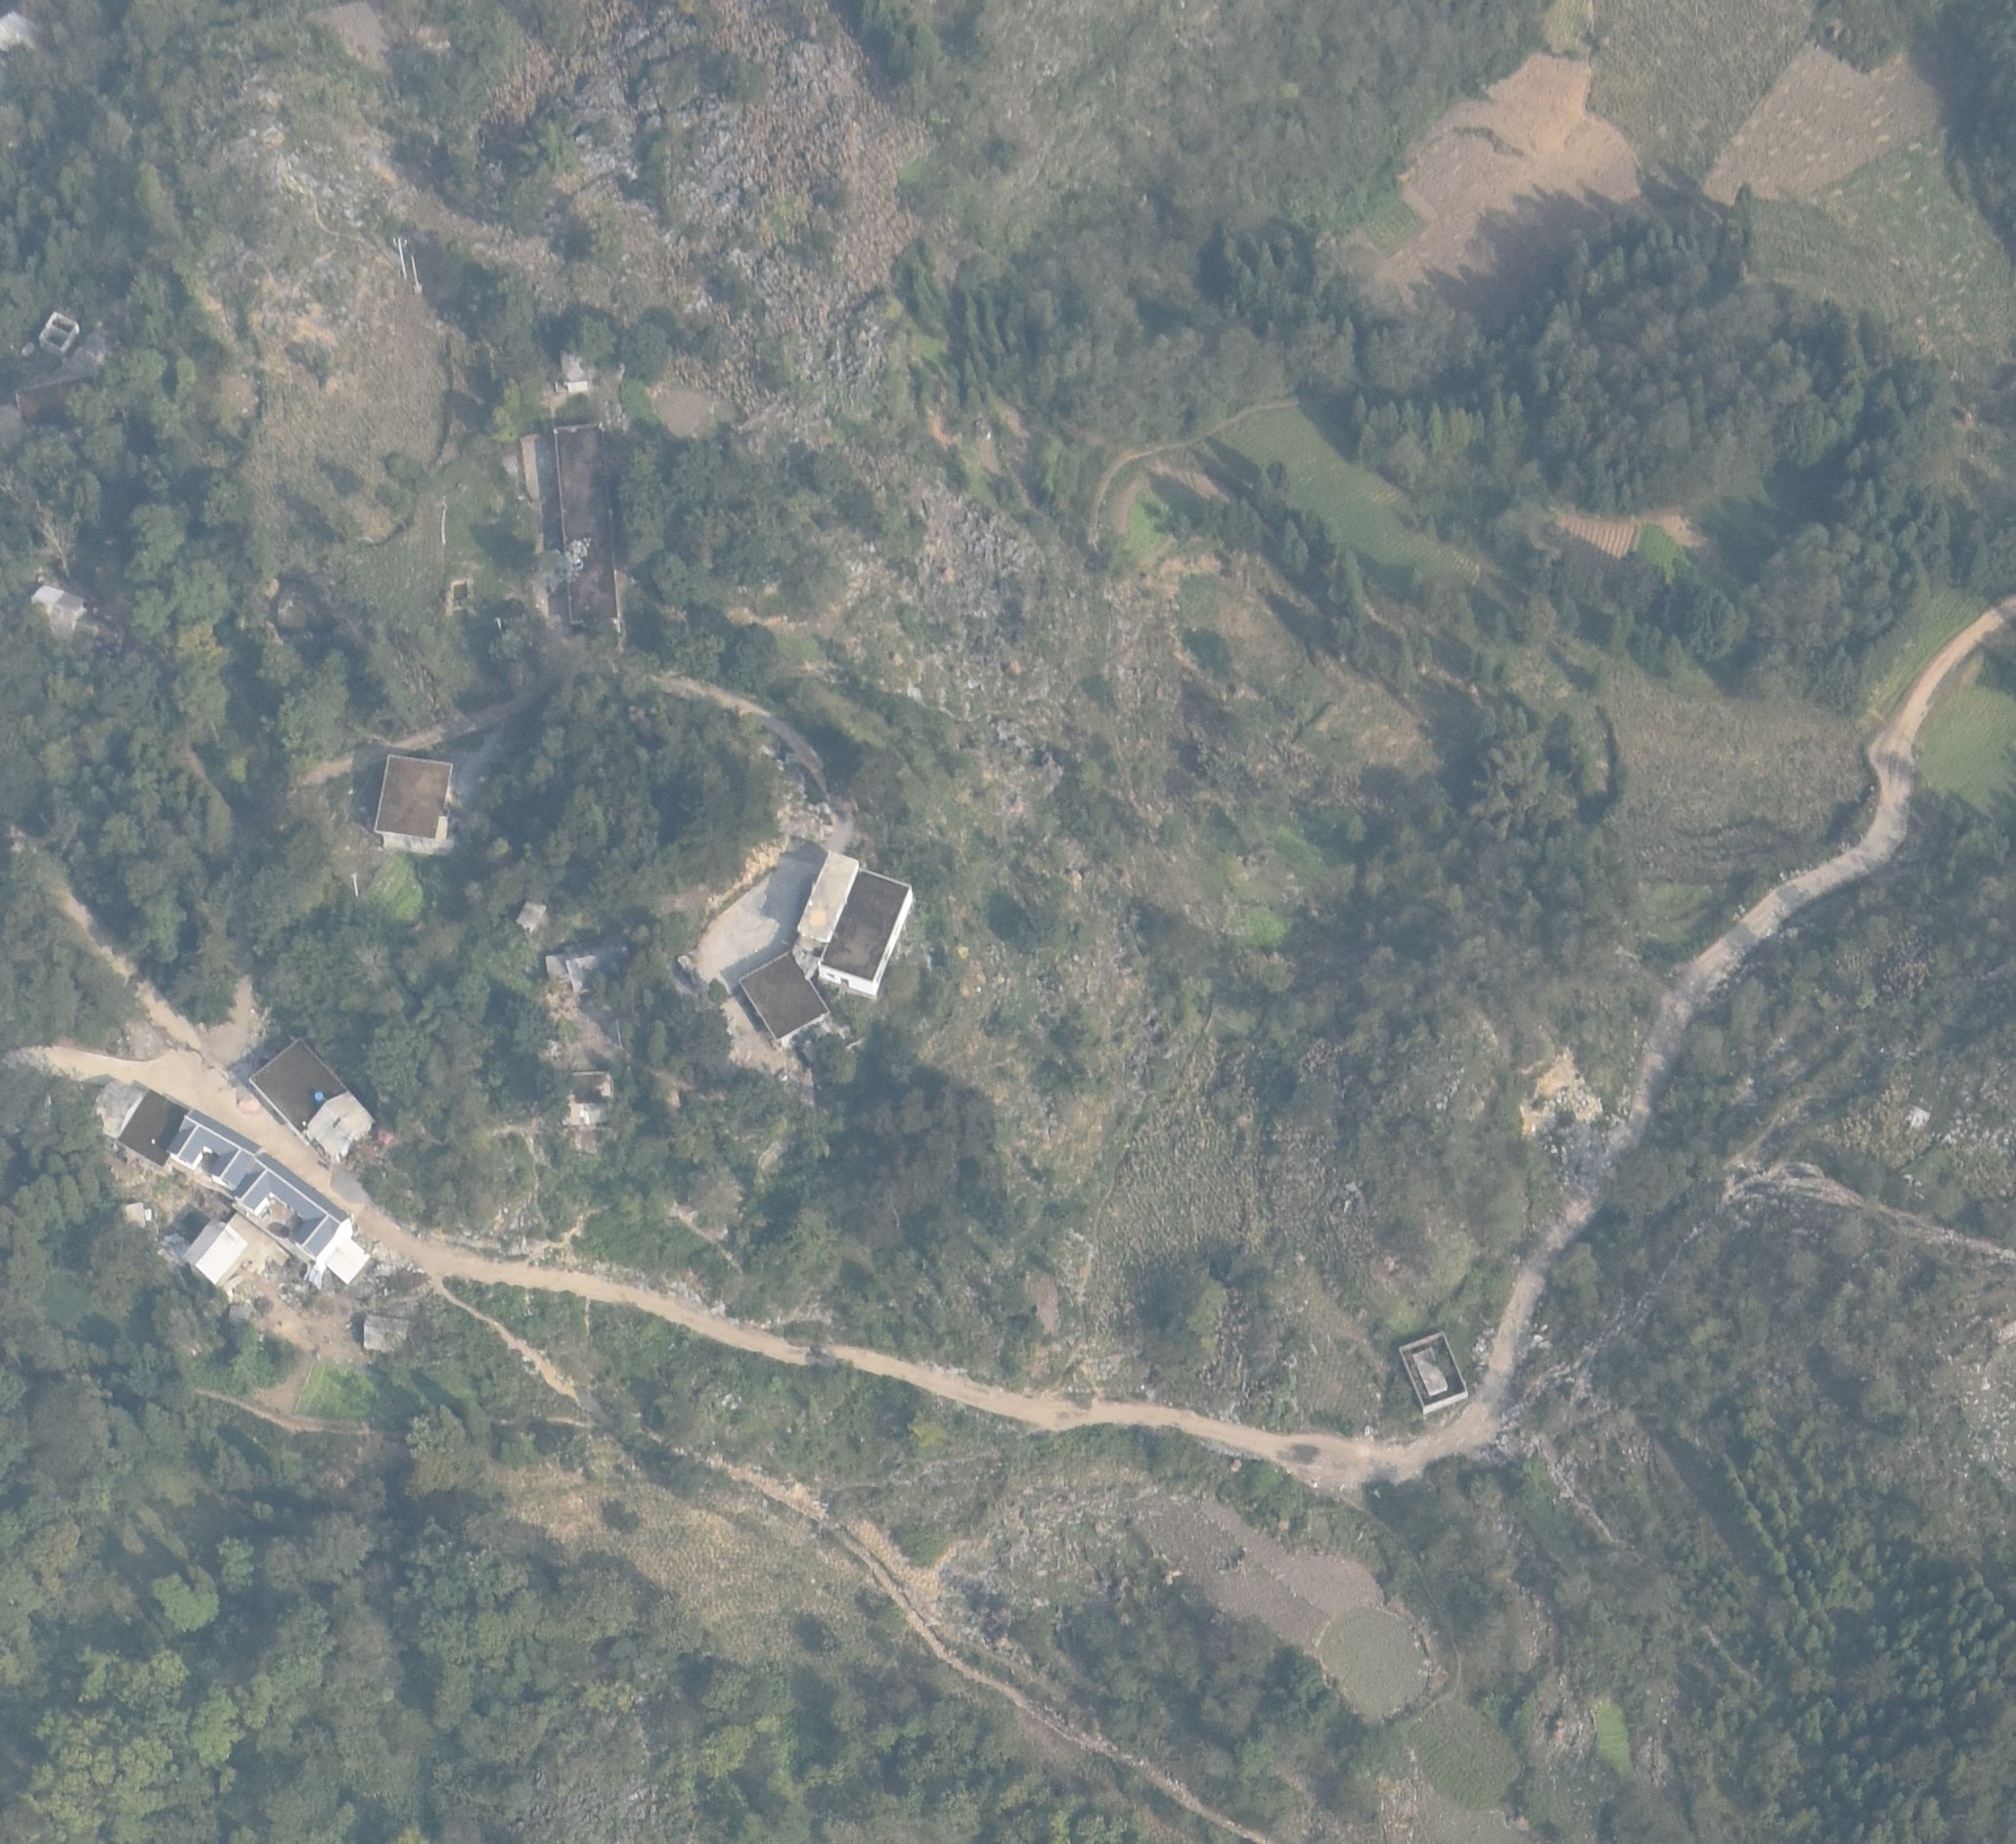building: (246, 1035, 377, 1166), (226, 1156, 352, 1267), (554, 423, 619, 622), (823, 865, 911, 991), (738, 950, 831, 1046), (168, 1106, 261, 1194), (373, 754, 450, 857), (802, 841, 863, 948), (1398, 1328, 1469, 1415), (114, 1085, 188, 1168), (546, 945, 630, 992), (30, 584, 83, 648), (565, 1068, 613, 1125), (71, 611, 118, 653), (39, 310, 78, 357), (362, 1316, 411, 1351), (559, 345, 588, 391), (516, 898, 545, 932)
cable-tower: (392, 236, 407, 281), (409, 253, 422, 292), (349, 872, 359, 897), (493, 616, 503, 633)
prefabricated-house: (184, 1213, 247, 1284)
